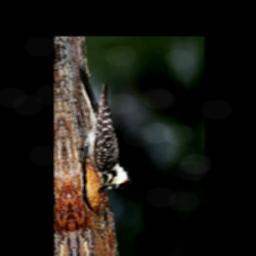Woodpecker: (69, 60, 136, 198)
